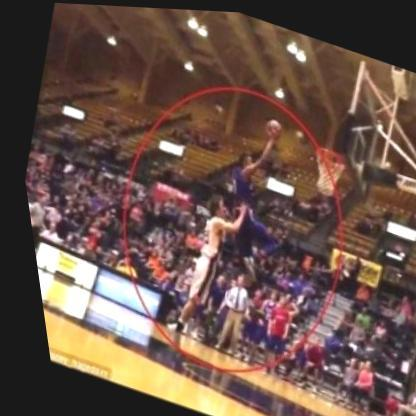basketball: (259, 109, 286, 136)
